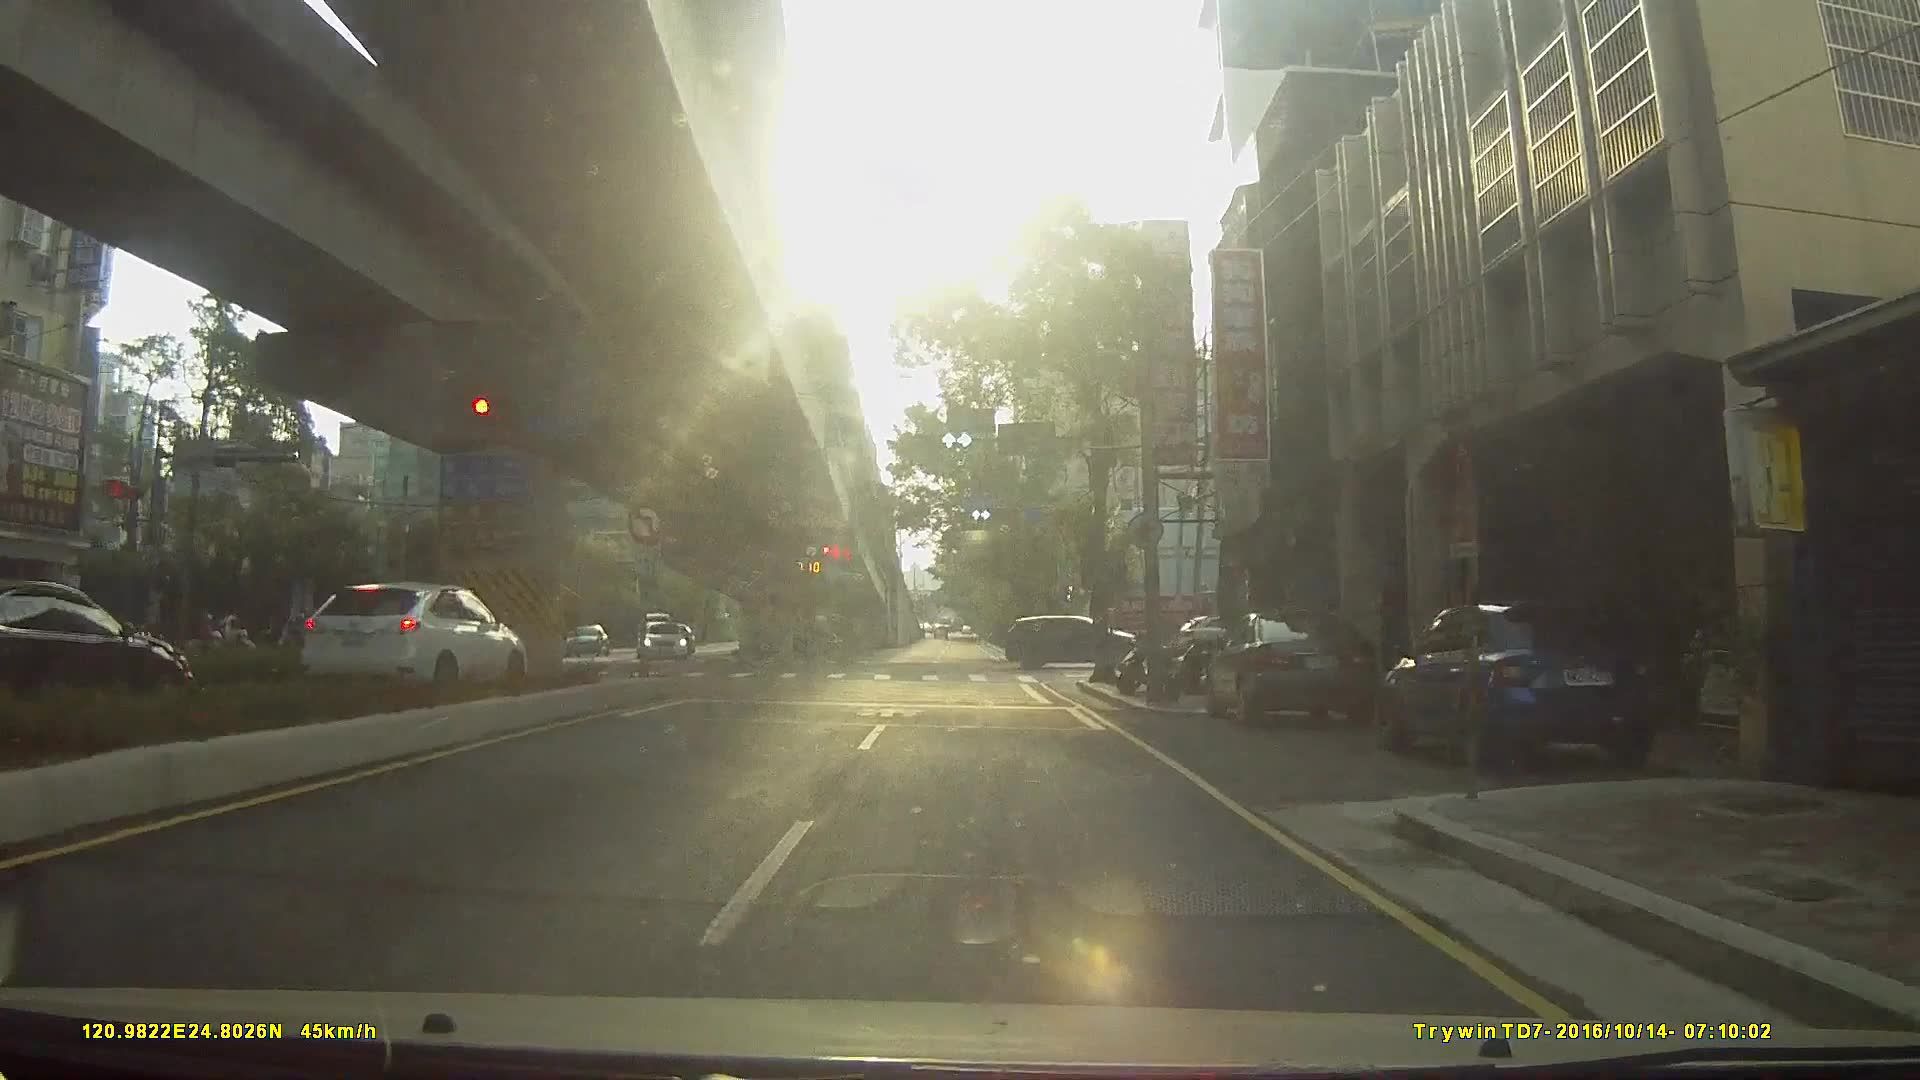vehicle: (1390, 596, 1680, 779), (276, 584, 539, 705), (1, 587, 202, 731), (1208, 605, 1391, 729), (1007, 612, 1160, 669), (636, 617, 686, 659), (556, 622, 608, 657)
